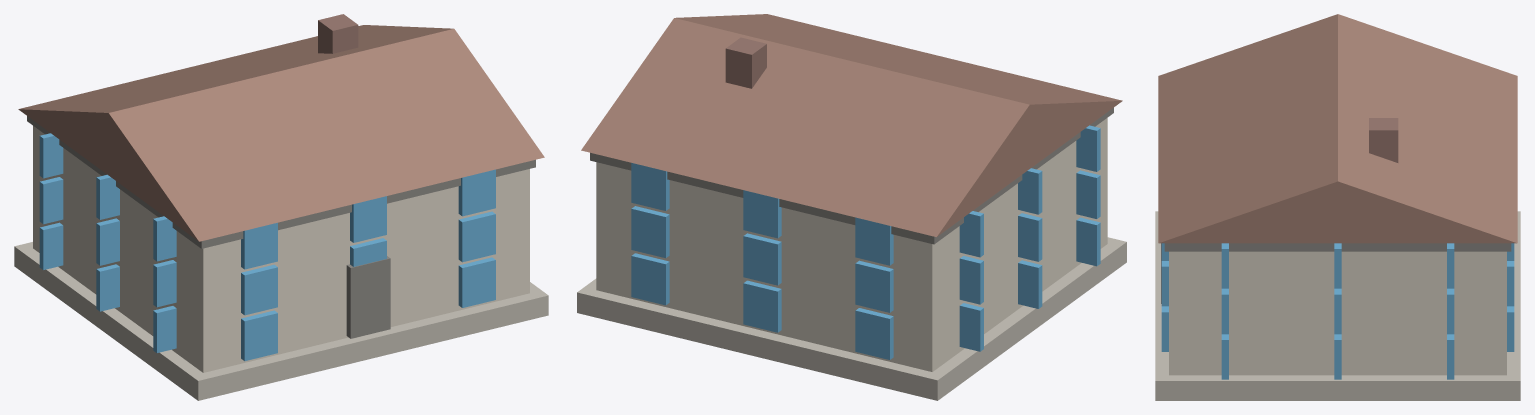
File: res_casa_urbana.glb
The picture shows the model from 3 angles, left to right: view 1: azimuth 30°, elevation 25°; view 2: azimuth 150°, elevation 25°; view 3: azimuth 270°, elevation 25°; orthographic projection. The views are drawn at different scales.
Visible parts, largest first — view 1: res_casa_urbana; view 2: res_casa_urbana; view 3: res_casa_urbana.
Boxes of the visible parts, x1,y1,x2,y2 form: res_casa_urbana: (14,14,548,400); res_casa_urbana: (577,14,1126,400); res_casa_urbana: (1155,14,1520,400).
Size of the model in its own units: 0.46 by 0.2785 by 0.4.
